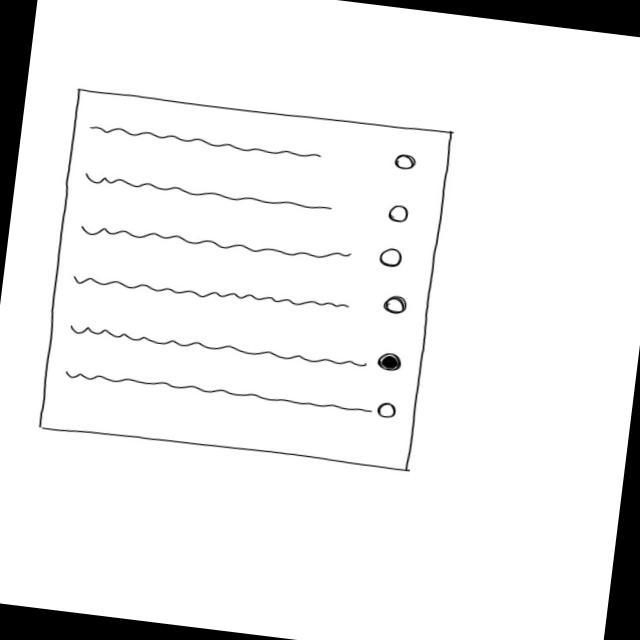container: (36, 83, 457, 477)
radio: (70, 255, 412, 328), (77, 209, 407, 276), (66, 313, 407, 377), (82, 164, 415, 226), (89, 115, 421, 177), (67, 362, 402, 421)
